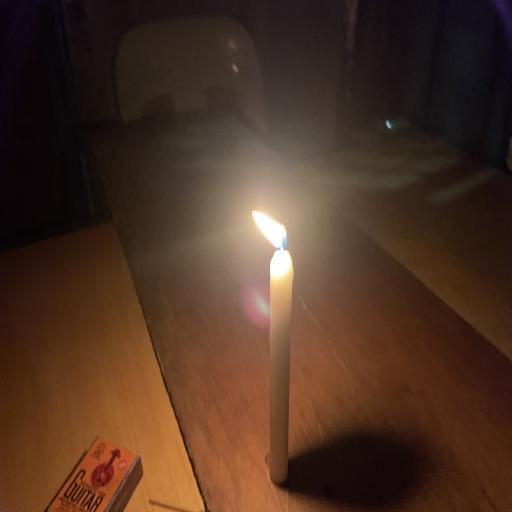fire: (237, 194, 304, 266)
